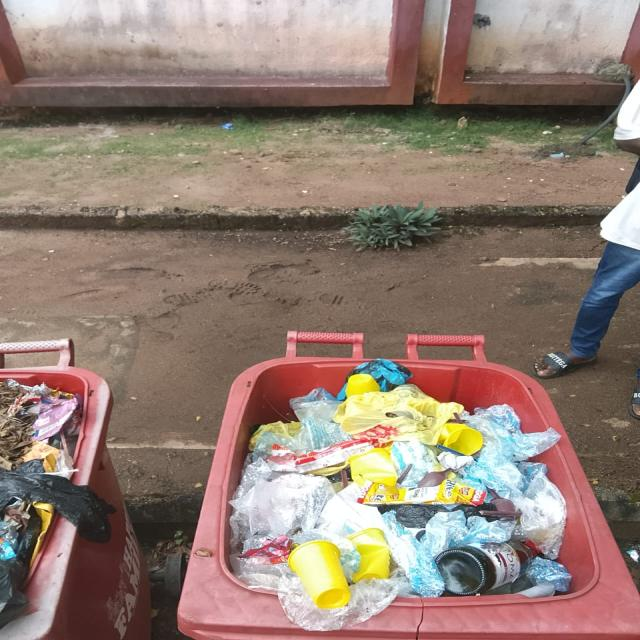full: (204, 355, 600, 633), (0, 364, 116, 640)
